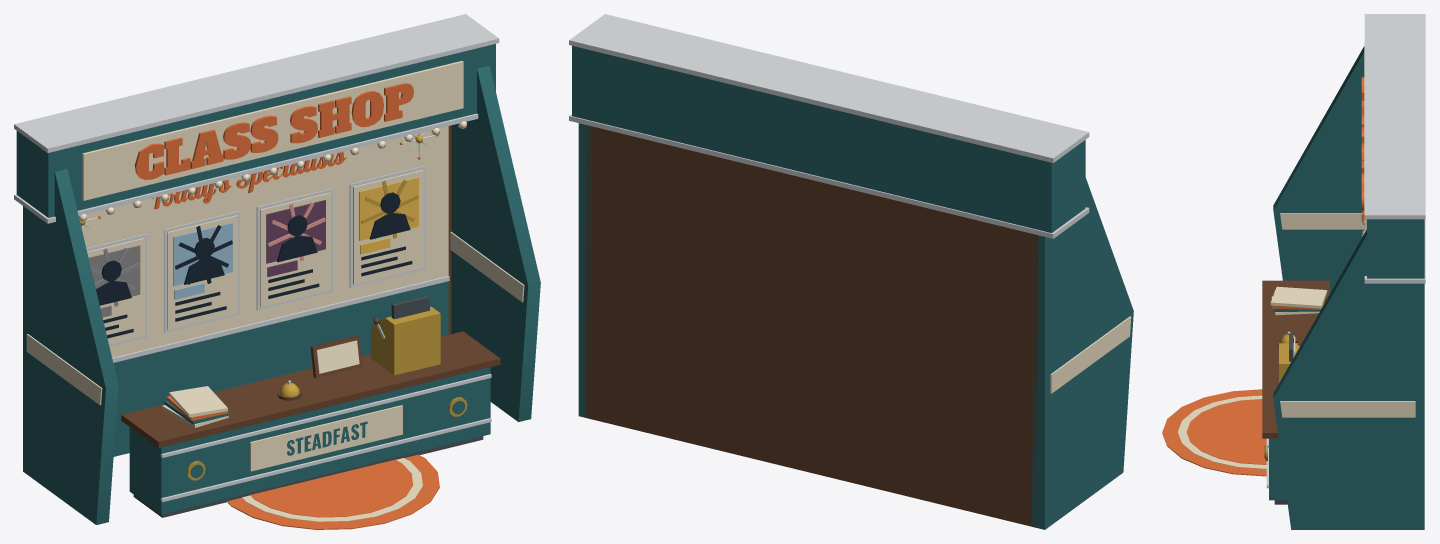
Rendered from Lobby_ClassBooth.fbx.
3 views of the same model, side by side, from view 1: azimuth 30°, elevation 25°; view 2: azimuth 150°, elevation 25°; view 3: azimuth 270°, elevation 25° (orthographic). The views are drawn at different scales.
Parts seen in each view (by area): view 1: Decor, DecorNeonCream; view 2: Decor; view 3: Decor.
Boxes of the visible parts, x1,y1,x2,y2 form: Decor: (14,14,540,529); DecorNeonCream: (79,121,466,221); Decor: (569,14,1133,529); Decor: (1162,14,1425,529).
Bounding box in the file's own units: 21.4 × 15.8 × 11.85.
